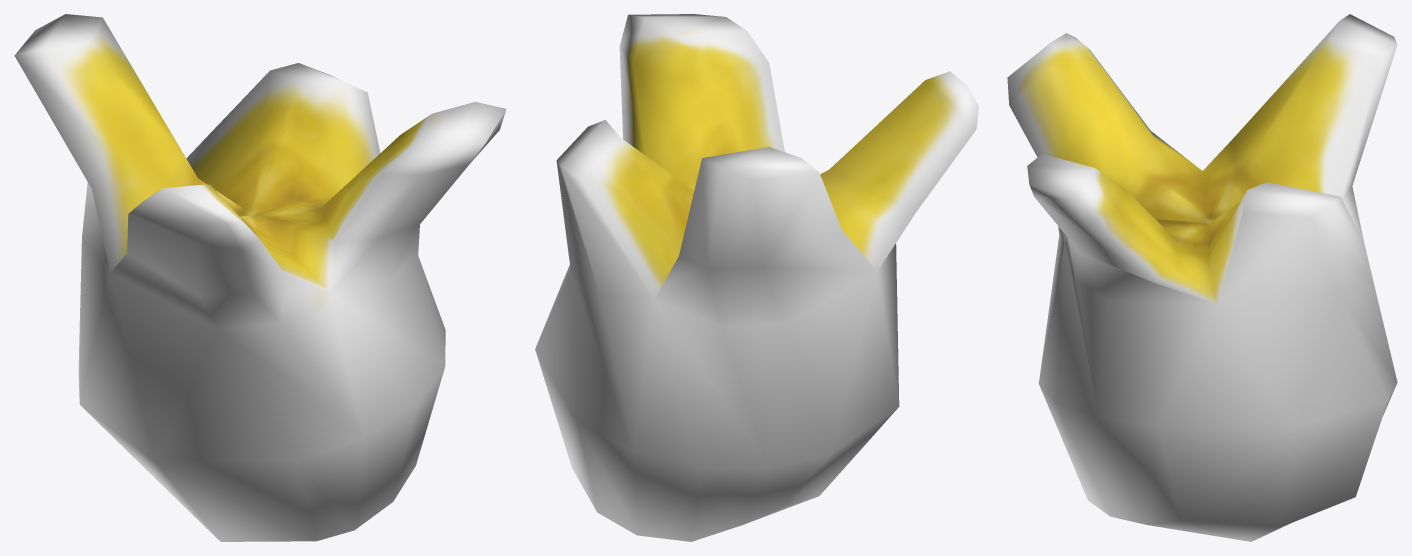
The model's file is asset_patlamis_misir_2.fbx.
3 renders of one model, left to right at view 1: azimuth 30°, elevation 25°; view 2: azimuth 150°, elevation 25°; view 3: azimuth 270°, elevation 25°, orthographic. The views are drawn at different scales.
Visible parts, largest first — view 1: patlamis_misir_2; view 2: patlamis_misir_2; view 3: patlamis_misir_2.
Part boxes in pixels (left/top/right/bottom): patlamis_misir_2: left=14, top=14, right=506, bottom=541; patlamis_misir_2: left=535, top=14, right=978, bottom=541; patlamis_misir_2: left=1007, top=14, right=1397, bottom=541.
Size of the model in its own units: 60.85 by 72.24 by 59.25.
1 material, 1 textured.
